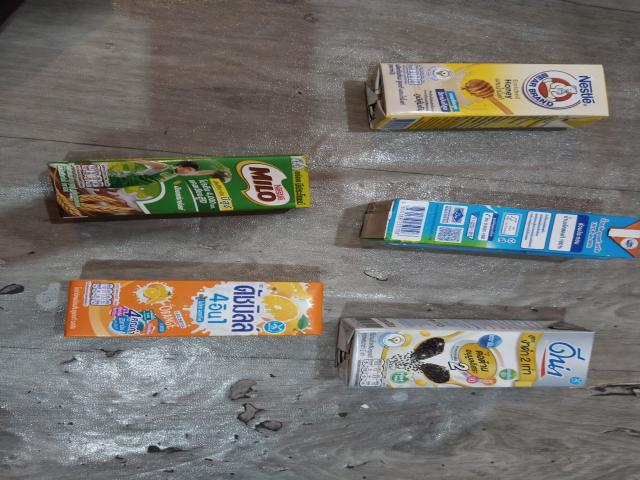drink_box: (355, 192, 636, 269), (341, 313, 592, 394), (358, 58, 616, 129), (42, 156, 326, 216), (59, 277, 324, 338)
